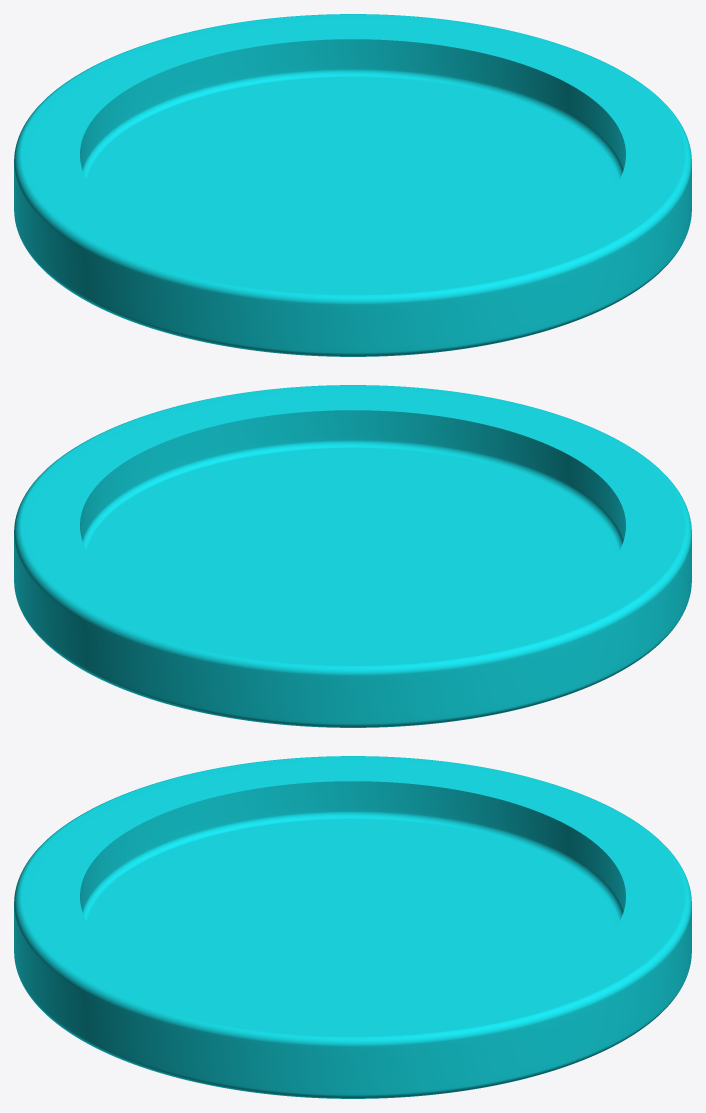
The model's file is button_UI.fbx.
3 renders of one model, top to bottom at view 1: azimuth 30°, elevation 25°; view 2: azimuth 150°, elevation 25°; view 3: azimuth 270°, elevation 25°, orthographic.
Visible parts, largest first — view 1: Button; view 2: Button; view 3: Button.
Part boxes in pixels (x1,y1,x2,y2): Button: (14,14,691,356); Button: (14,385,691,727); Button: (14,756,691,1098).
Bounding box in the file's own units: 41.27 × 4.15 × 41.27.
